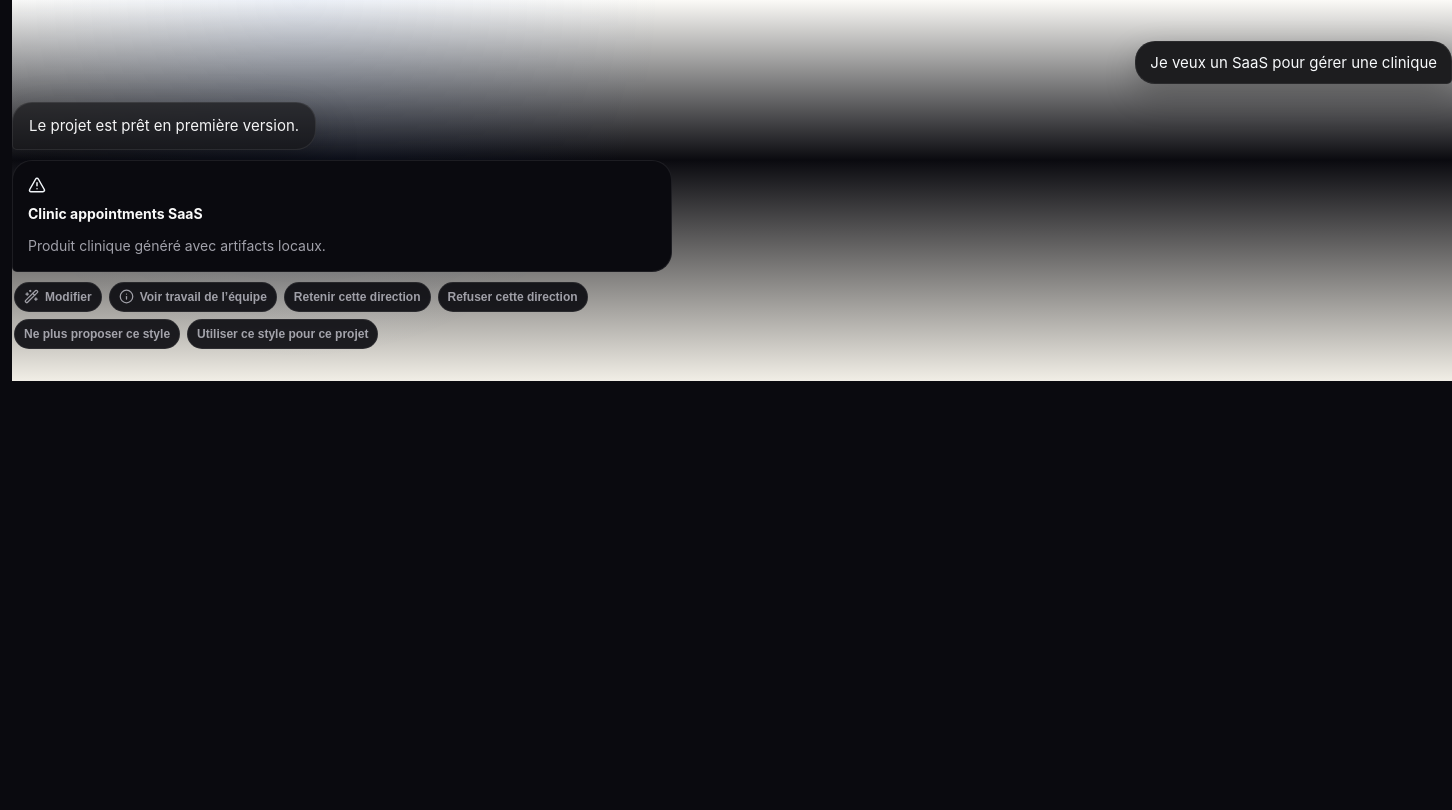
Test case: CEO command components › shows coaching lessons only inside details
Expected: the text "Coaching agents" is not shown
Expected: the text "unrelated_initial_symbol" is not shown
Click the button "Voir travail de l’équipe". click: coordinates (193, 297)
box: [109,282,277,312]
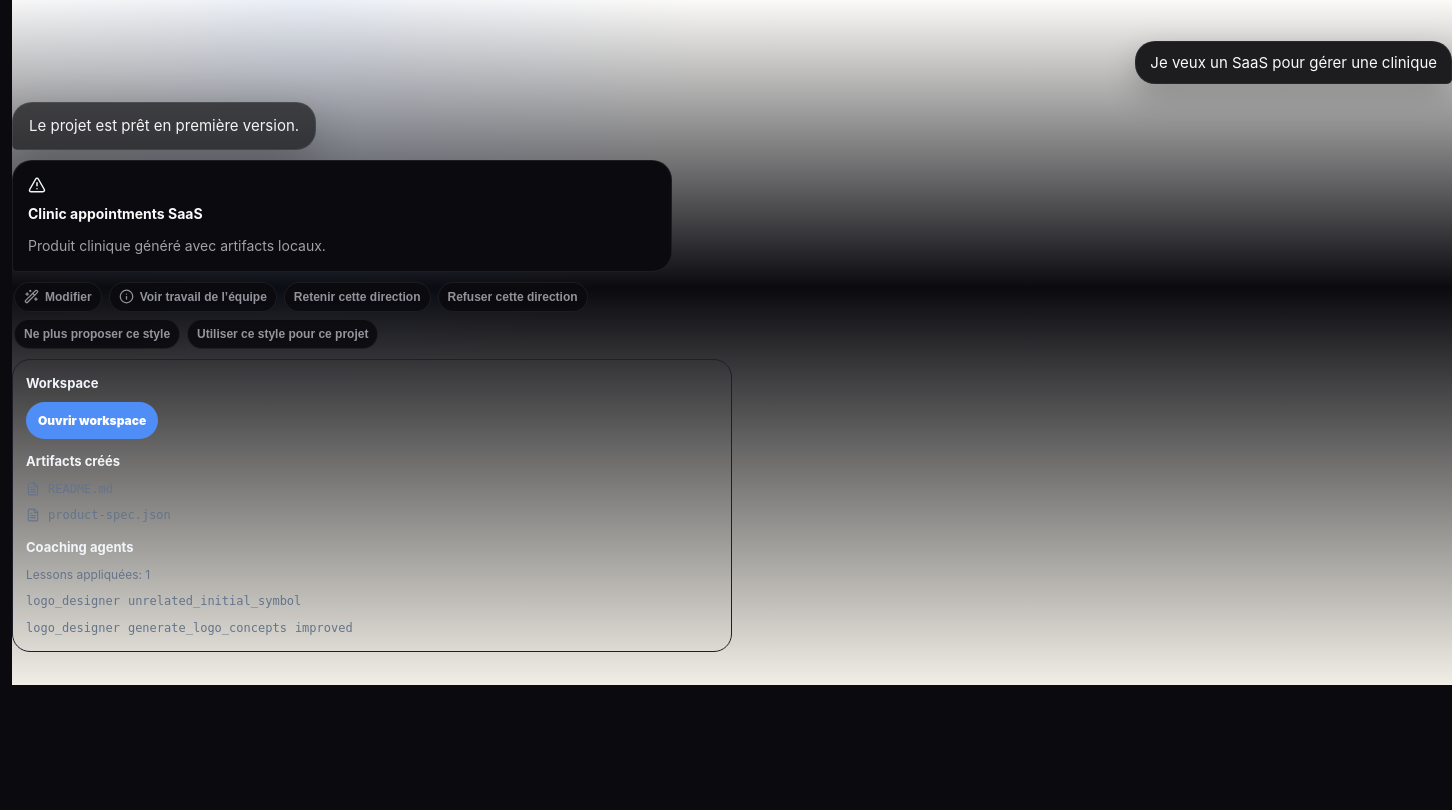
Expected: the text "Coaching agents" is shown, [26,539,134,555]
Expected: the text "Lessons appliquées: 1" is shown, [26,567,150,582]
Expected: the text "unrelated_initial_symbol" is shown, [128,592,301,611]
